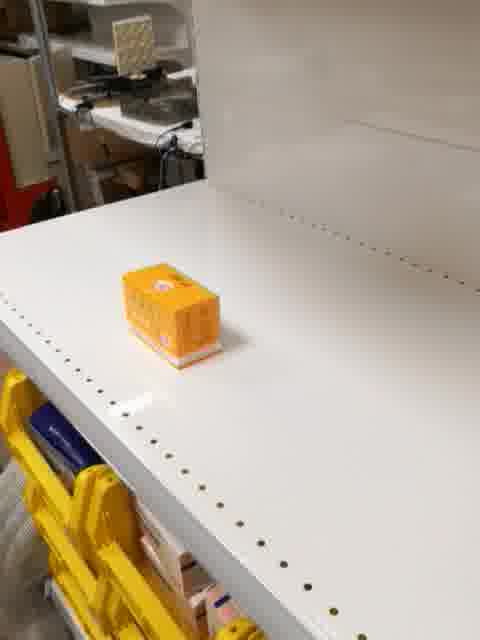jasminetea: (121, 263, 223, 370)
